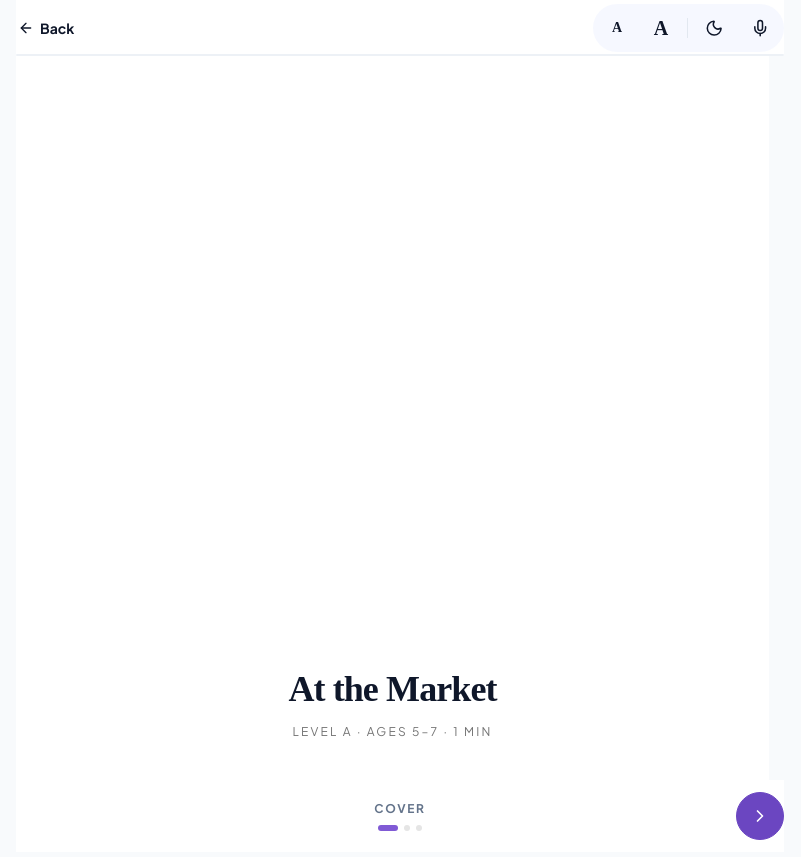
Test: reading to my grown-ups › says so when the microphone is blocked
Click the button named "Record my reading for my grown-ups".
click(760, 28)  # box top-left (738, 6), bottom-right (782, 50)
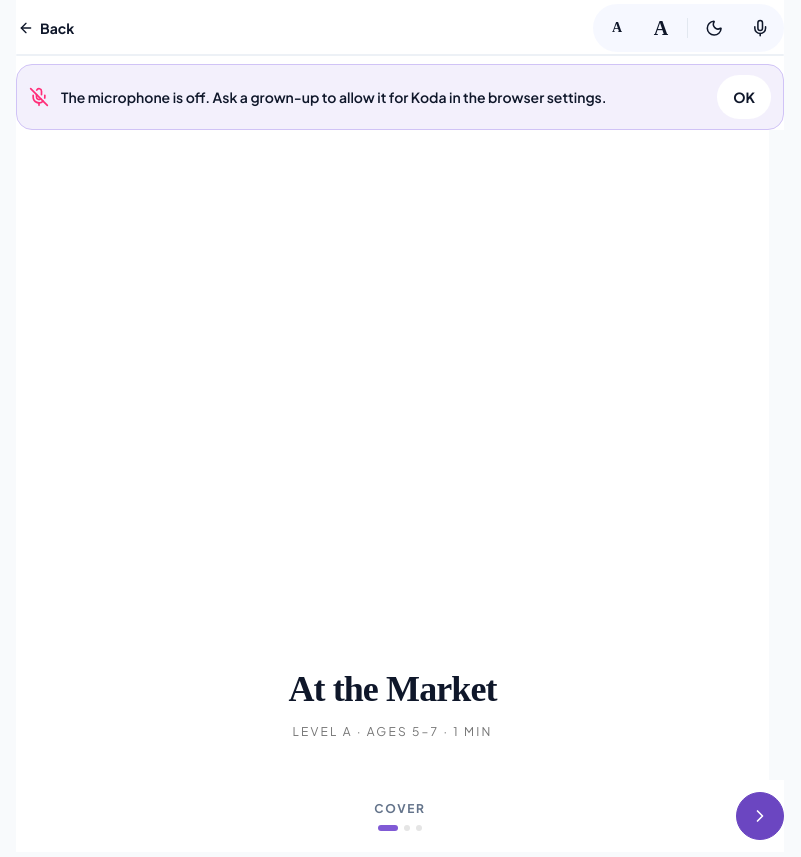
Expected: the text "The microphone is off" is shown, top-left (61, 88), bottom-right (607, 106)
